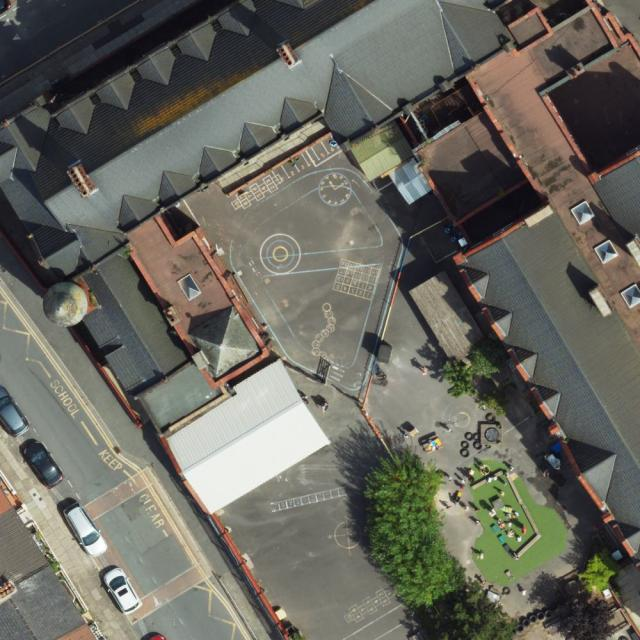roof: (0, 0, 640, 560), (0, 487, 98, 639)
skylight: (592, 238, 620, 268), (177, 273, 203, 305), (569, 199, 596, 225), (620, 282, 640, 310)
